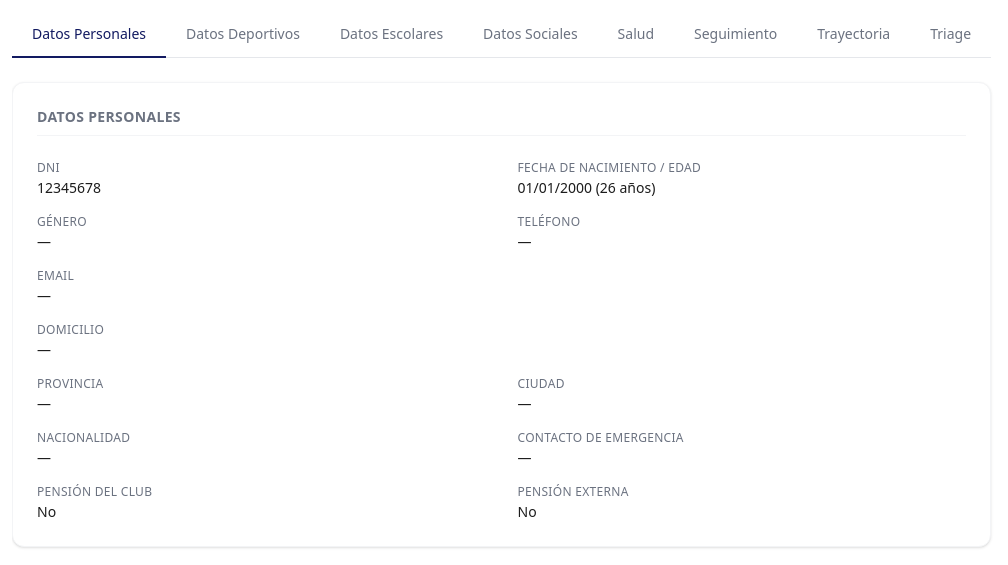
Test: DeportistaDetailTabs › al hacer click en Seguimiento muestra el timeline con los items
The image size is (1008, 565).
Click the tab "Seguimiento" at (736, 35), box [674,12,797,58]
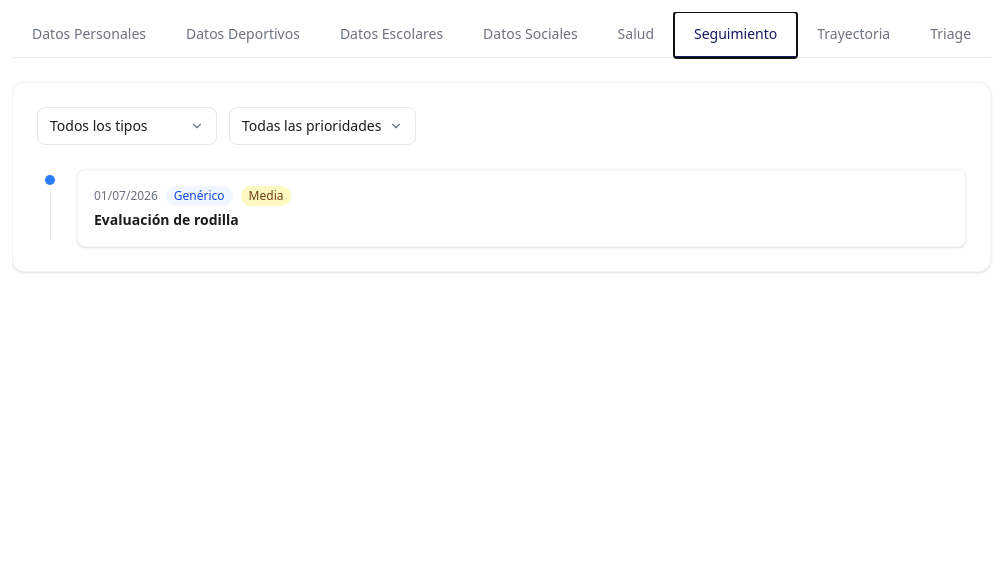
expect the text "Evaluación de rodilla" is shown: met, box [94,210,239,229]
